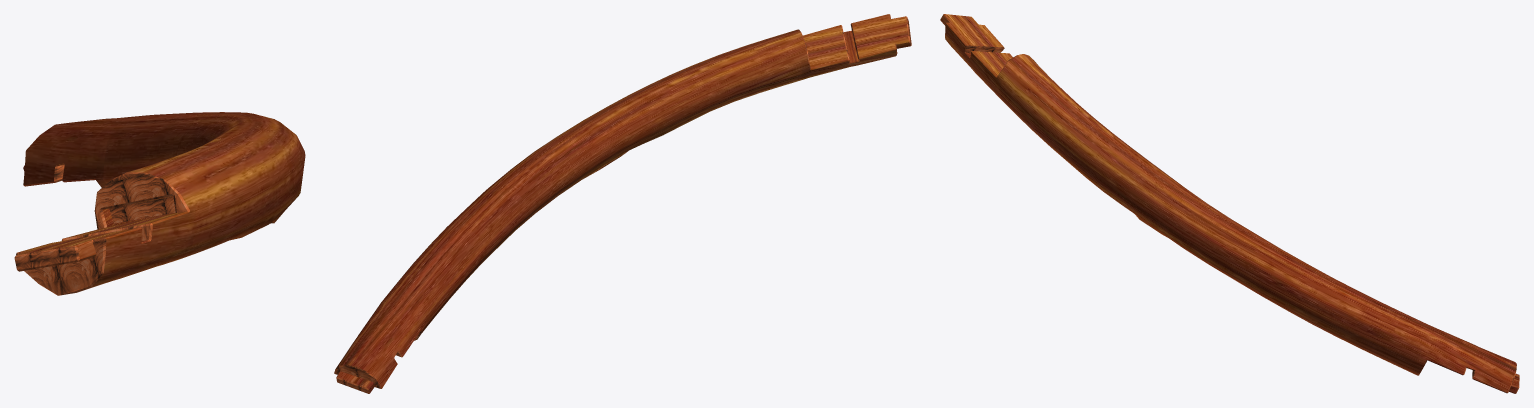
Rendered from quanyi_J_D_yiquan02.FBX.
3 views of the same model, side by side, from view 1: azimuth 30°, elevation 25°; view 2: azimuth 150°, elevation 25°; view 3: azimuth 270°, elevation 25° (orthographic). The views are drawn at different scales.
Visible parts, largest first — view 1: quanyi_J_D_yiquan02; view 2: quanyi_J_D_yiquan02; view 3: quanyi_J_D_yiquan02.
Part boxes in pixels (x1,y1,x2,y2): quanyi_J_D_yiquan02: [14, 112, 305, 295]; quanyi_J_D_yiquan02: [334, 14, 911, 393]; quanyi_J_D_yiquan02: [940, 14, 1519, 393].
Size of the model in its own units: 21.48 by 15.43 by 33.73.
Materials: 2 (2 with a texture image).
